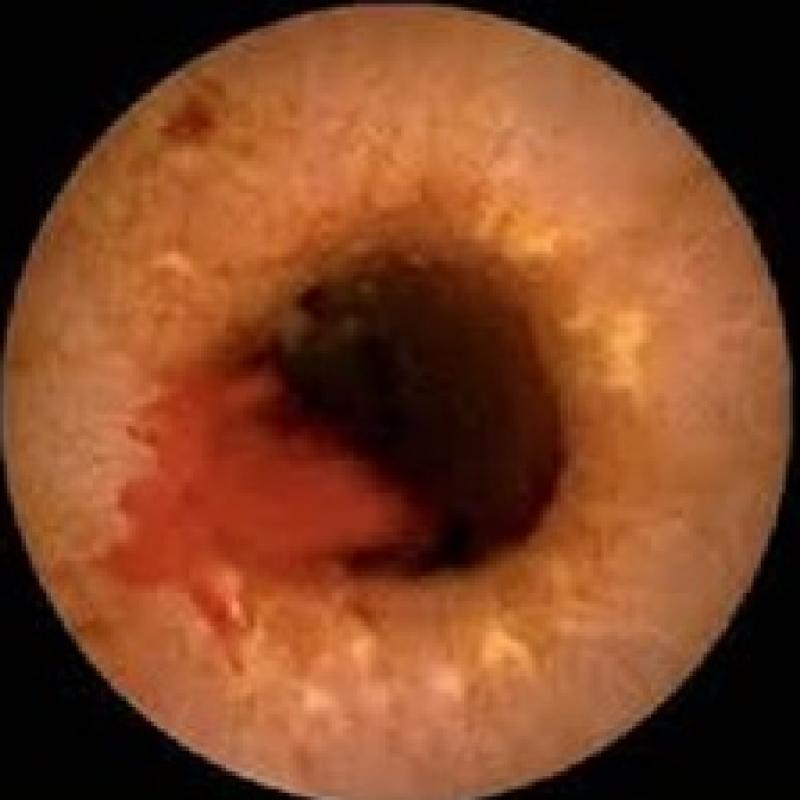bleeding: (121, 247, 570, 652), (157, 104, 214, 150)
